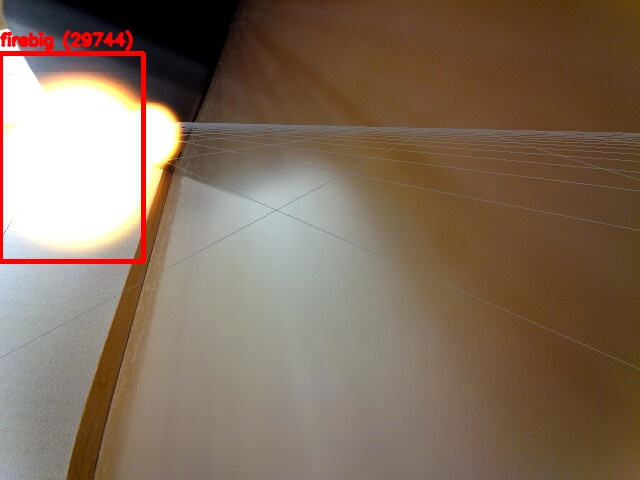firebig: (0, 53, 143, 261)
